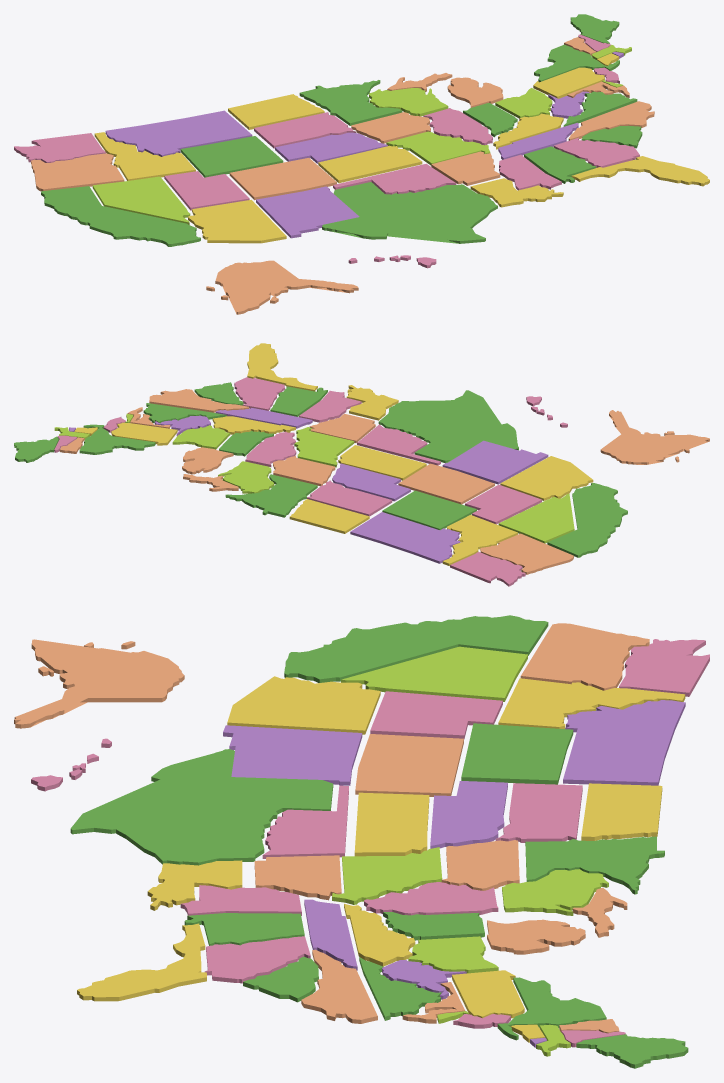
The model's file is USA_Map.fbx.
3 views of the same model, one above another, from view 1: azimuth 30°, elevation 25°; view 2: azimuth 150°, elevation 25°; view 3: azimuth 270°, elevation 25° (orthographic). The views are drawn at different scales.
Visible parts, largest first — view 1: Texas, California, Montana, Alaska, Arizona, New Mexico, Nevada, Colorado, Wyoming, Oregon, Minnesota, Idaho (+30 smaller); view 2: Texas, California, Montana, Alaska, New Mexico, Arizona, Nevada, Colorado, Wyoming, Oregon, Minnesota, Idaho (+30 smaller); view 3: Texas, California, Montana, Alaska, Arizona, New Mexico, Nevada, Colorado, Wyoming, Oregon, Minnesota, Idaho (+32 smaller).
Boxes of the visible parts, bbox=[...] form: Texas: bbox=[322, 182, 497, 243]; California: bbox=[41, 186, 200, 246]; Montana: bbox=[105, 110, 252, 156]; Alaska: bbox=[206, 260, 358, 314]; Arizona: bbox=[188, 199, 286, 243]; New Mexico: bbox=[256, 186, 359, 238]; Nevada: bbox=[92, 176, 190, 224]; Colorado: bbox=[229, 158, 336, 200]; Wyoming: bbox=[180, 136, 283, 177]; Oregon: bbox=[31, 153, 124, 191]; Minnesota: bbox=[299, 80, 402, 125]; Idaho: bbox=[94, 132, 195, 180]; Texas: bbox=[378, 390, 518, 462]; California: bbox=[547, 483, 627, 557]; Montana: bbox=[350, 512, 460, 563]; Alaska: bbox=[600, 410, 709, 464]; New Mexico: bbox=[442, 440, 548, 484]; Arizona: bbox=[500, 456, 593, 500]; Nevada: bbox=[498, 493, 574, 543]; Colorado: bbox=[398, 463, 494, 504]; Wyoming: bbox=[382, 490, 476, 529]; Oregon: bbox=[480, 533, 573, 574]; Minnesota: bbox=[225, 474, 317, 517]; Idaho: bbox=[442, 515, 517, 565]; Texas: bbox=[70, 749, 333, 865]; California: bbox=[284, 615, 548, 682]; Montana: bbox=[563, 700, 685, 785]; Alaska: bbox=[14, 639, 184, 728]; Arizona: bbox=[227, 676, 380, 734]; New Mexico: bbox=[223, 725, 362, 785]; Nevada: bbox=[341, 646, 527, 701]; Colorado: bbox=[355, 734, 463, 796]; Wyoming: bbox=[461, 723, 573, 784]; Oregon: bbox=[520, 623, 649, 690]; Minnesota: bbox=[525, 836, 664, 894]; Idaho: bbox=[498, 678, 685, 728].
Bounding box in the file's own units: 981 × 4.65 × 642.
